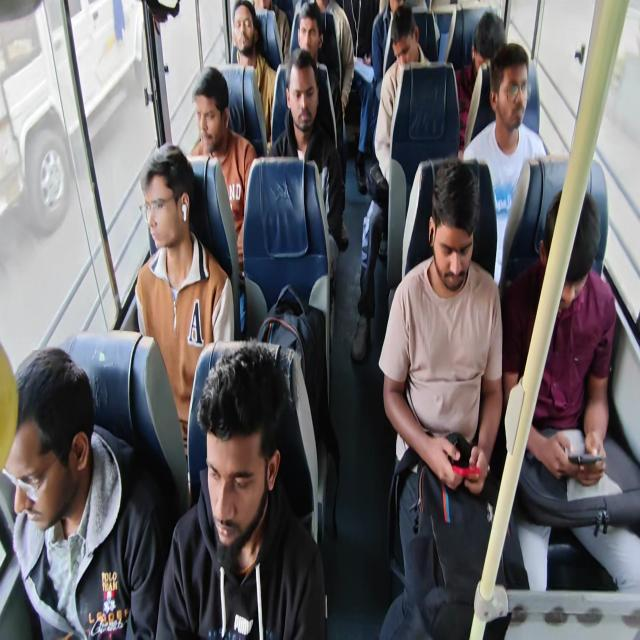person: (15, 328, 101, 566), (166, 390, 267, 578), (415, 170, 504, 360), (514, 171, 614, 328), (146, 153, 209, 289), (226, 0, 294, 80), (284, 65, 342, 157), (192, 62, 233, 158), (490, 61, 538, 140), (341, 0, 384, 80), (390, 24, 428, 102), (296, 6, 332, 62), (477, 14, 506, 73), (250, 0, 284, 28), (385, 0, 416, 21), (313, 0, 328, 18)
